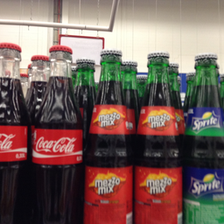soda: (31, 45, 84, 224), (85, 49, 134, 224), (134, 51, 182, 223), (181, 54, 223, 224), (1, 42, 30, 224)
